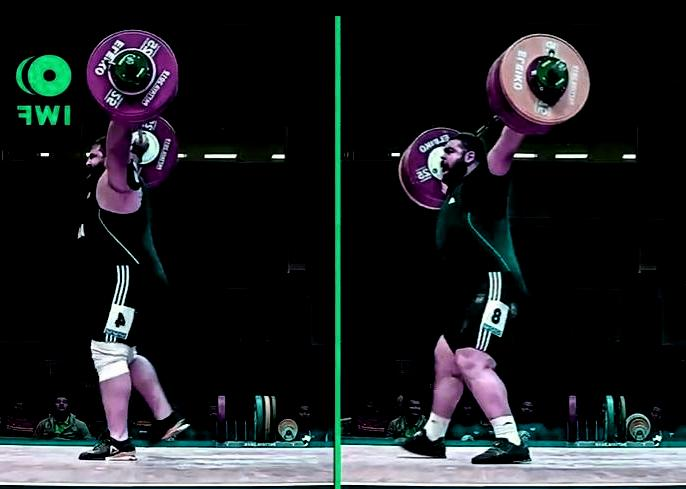Barbell: (550, 58, 567, 75), (121, 53, 137, 69)
